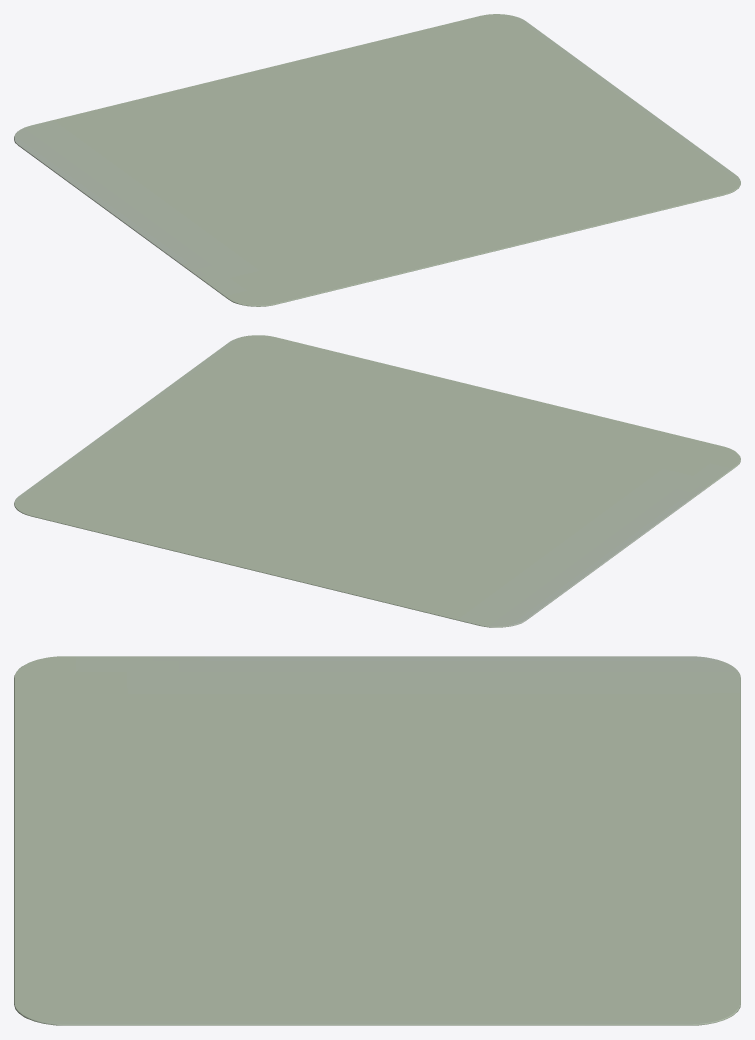
Rendered from 27 - KOLON - 地板保護墊, 120x100 公分, 120x100 公分 IKEA 線上購物.glb.
3 renders of one model, top to bottom at view 1: azimuth 30°, elevation 25°; view 2: azimuth 150°, elevation 25°; view 3: azimuth 270°, elevation 25°, orthographic. The views are drawn at different scales.
Parts seen in each view (by area): view 1: Mesh_0; view 2: Mesh_0; view 3: Mesh_0.
Part boxes in pixels (x1,y1,x2,y2): Mesh_0: [14, 14, 740, 306]; Mesh_0: [14, 335, 740, 627]; Mesh_0: [14, 656, 740, 1025].
Size of the model in its own units: 1.2 by 0.00198 by 1.
Materials: 1 (1 with a texture image).
